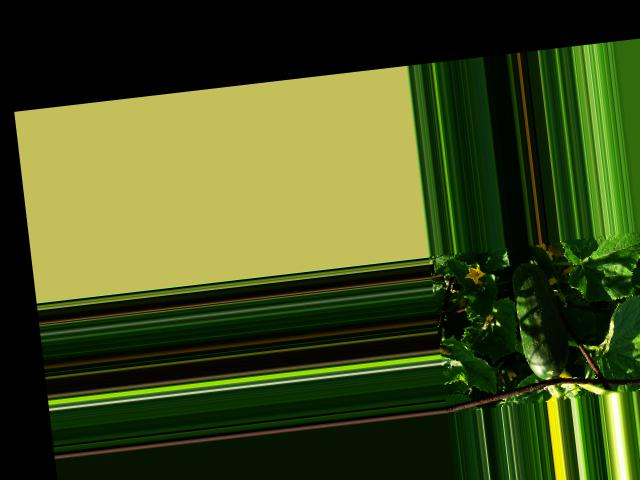cucumber: (510, 258, 573, 381)
